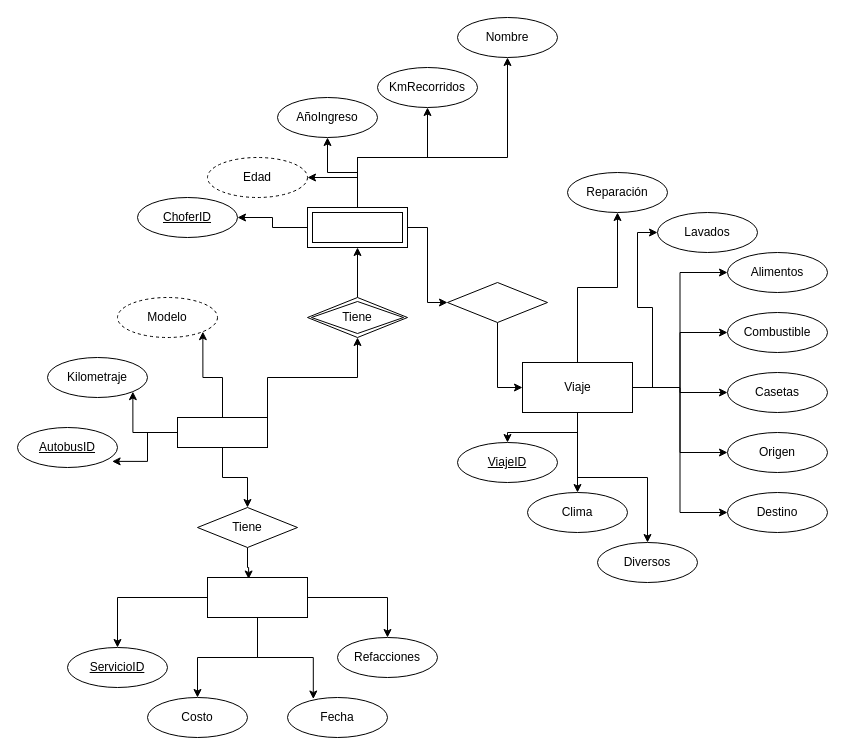
This 845x755 diagram has some shape labels left out. Each missing label, with the centre of its shape:
"Autobus" goes at (x=222, y=432).
"Chofer" goes at (x=357, y=227).
"Realiza" goes at (x=497, y=302).
"Servicio" goes at (x=257, y=597).
